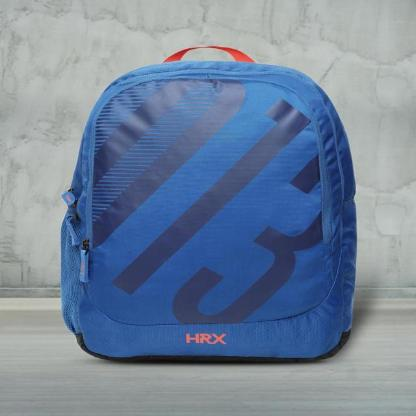bag: (55, 40, 364, 368)
